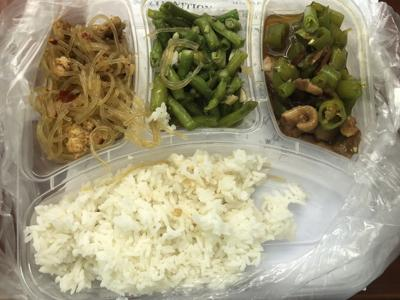cqj: (261, 3, 365, 148)
rice: (29, 166, 312, 285)
